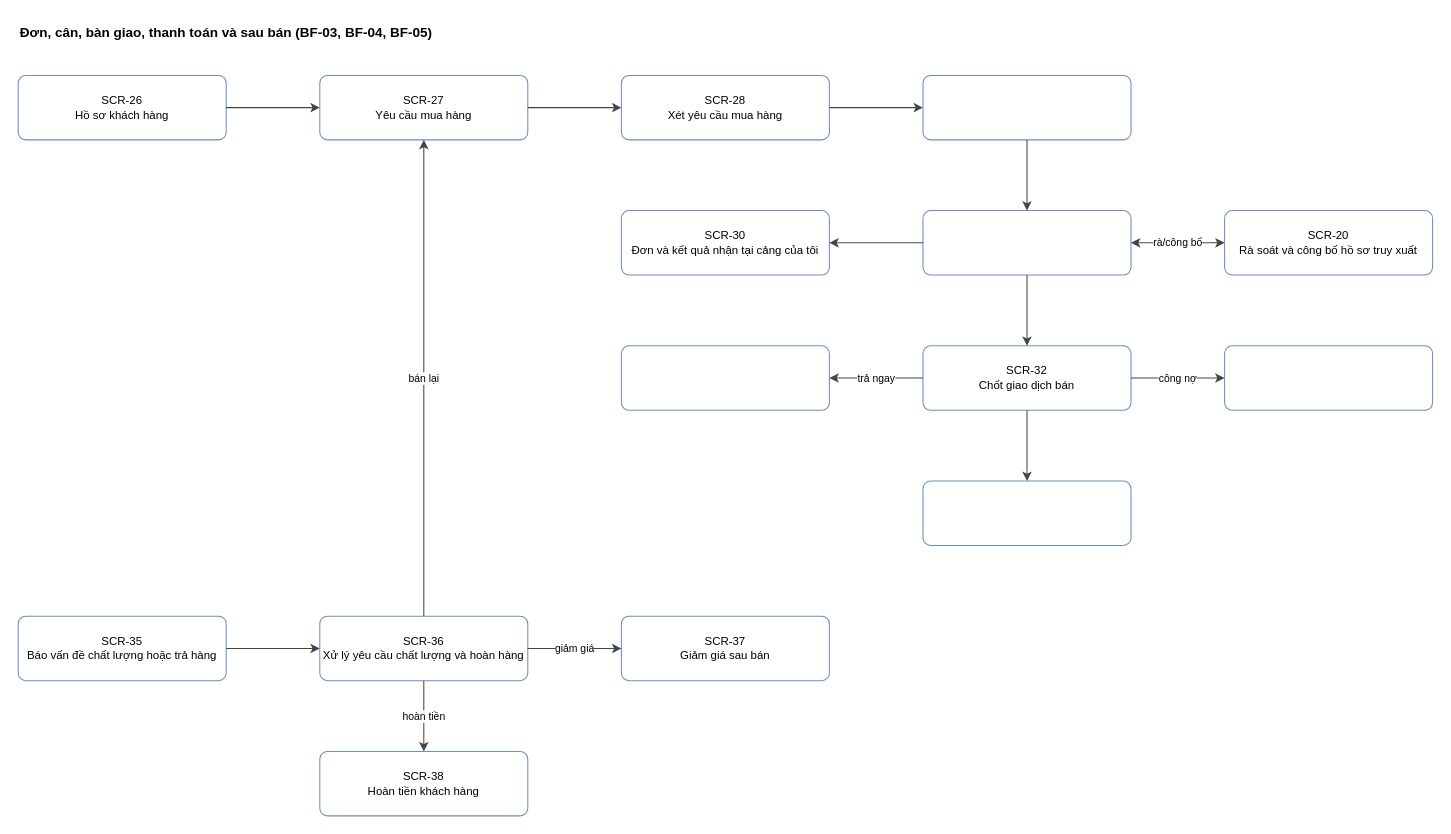
Some shapes in this 1451 by 834 pixel diagram are drawn without their labels. The shapes that lost their labels are listed below. From the top down, each one's centre as x and y in pixels, then its label:
point 1026,107: SCR-19 Kế hoạch và ghi nhận thu hoạch của đơn
point 1026,242: SCR-29 Cân và bàn giao tại cảng
point 724,377: SCR-33 Ghi nhận tiền khách thanh toán
point 1328,377: SCR-34 Đối soát công nợ khách hàng
point 1026,512: SCR-31 Biên nhận và công nợ của tôi
